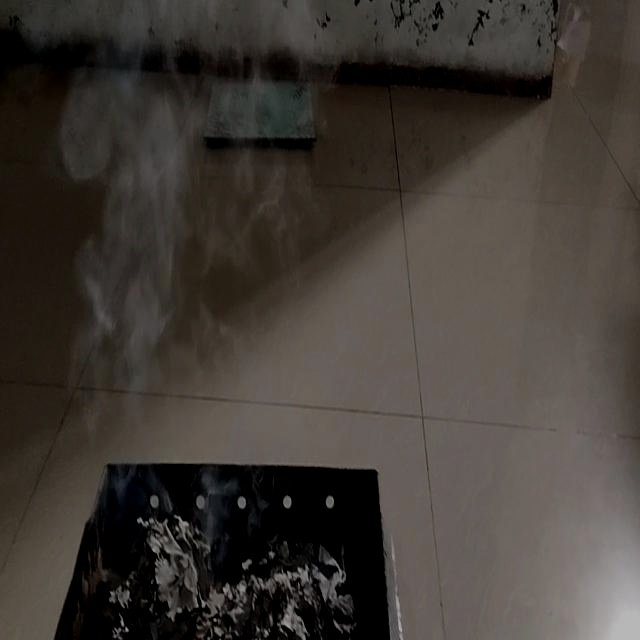smoke: (63, 4, 249, 530)
